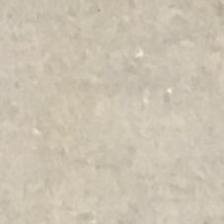Non_Crack: (21, 52, 224, 206)
